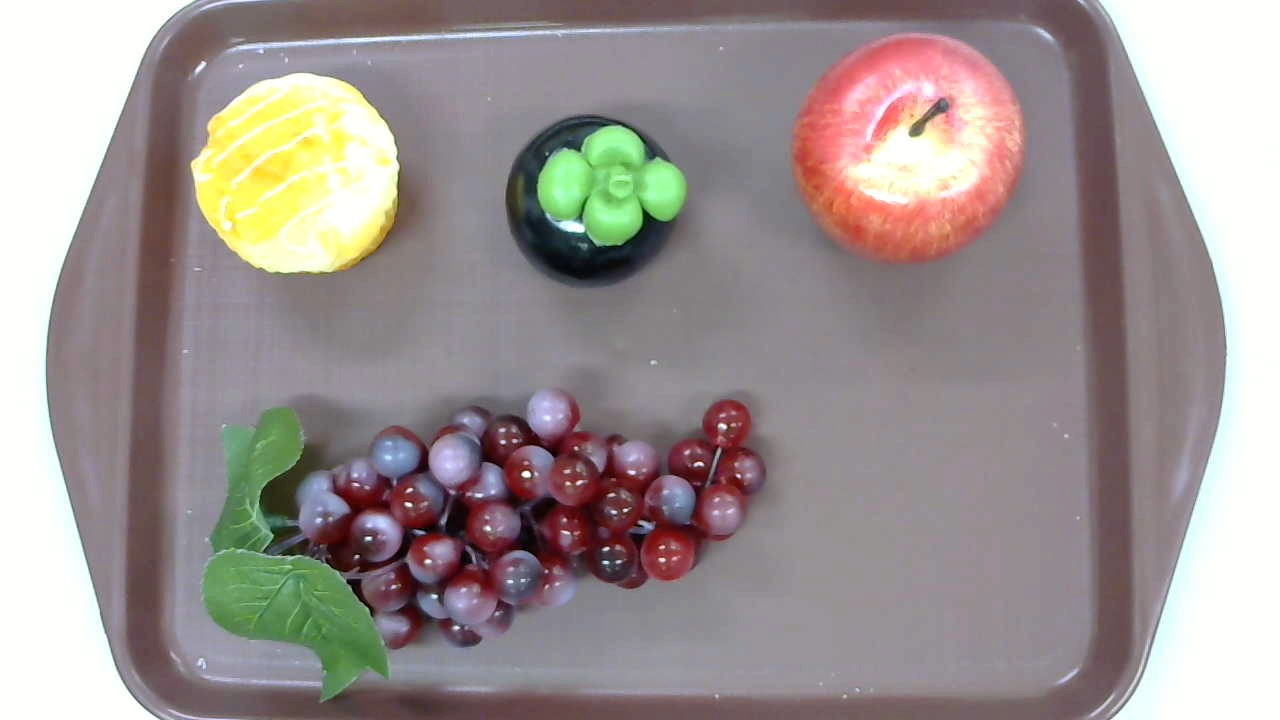cupcake: (191, 72, 401, 278)
grape: (200, 385, 768, 704)
mangosteen: (505, 114, 689, 289)
red apple: (791, 31, 1027, 266)
